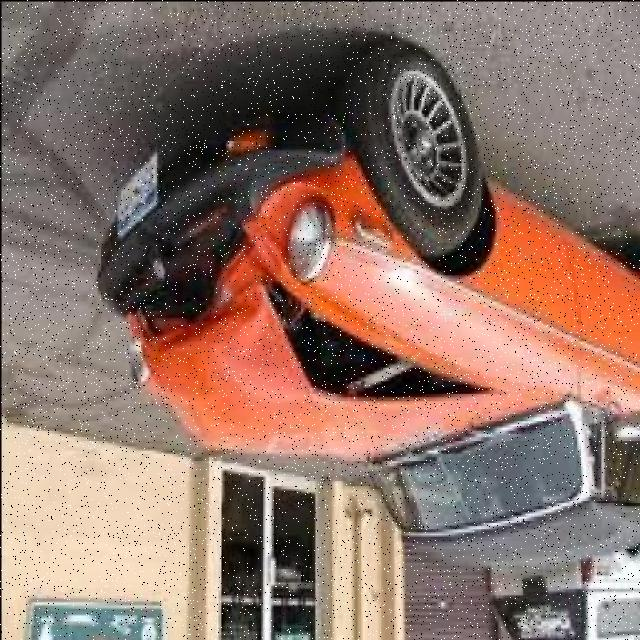damage: (113, 191, 508, 455)
